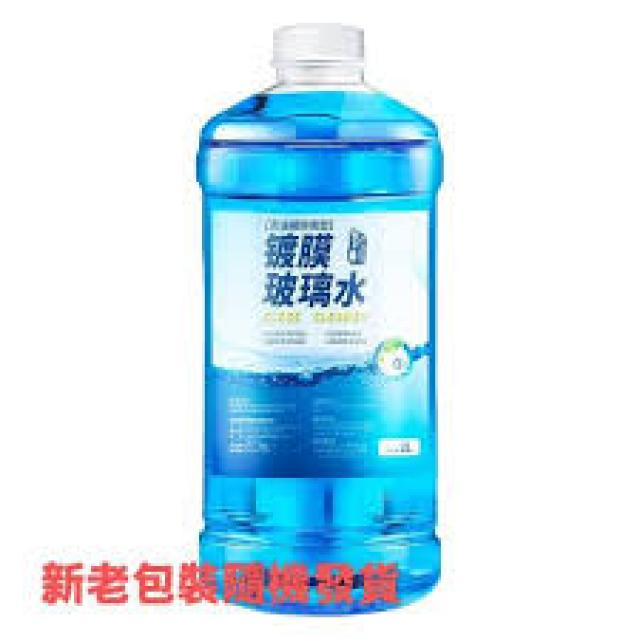winwinshield_washer: (196, 16, 448, 618)
